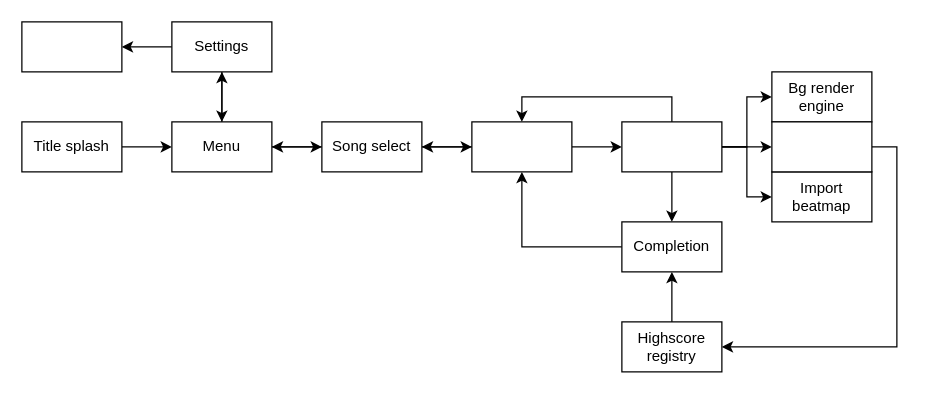
Image size: 929x394. Some labels were removed from this diagram. Each missing label, with the centre of its shape:
Cover: [521,146]
Gameplay: [671,146]
modifies a settings.txt file: [71,46]
score/quality counter: [821,146]
